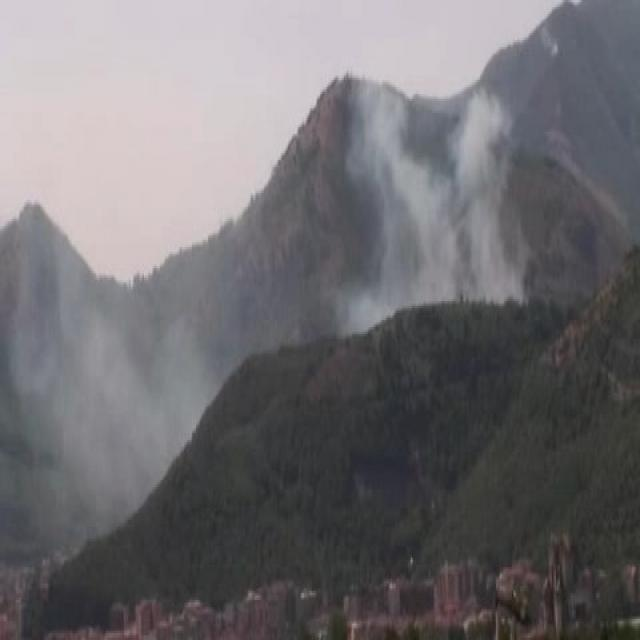smoke: (351, 81, 511, 310), (27, 262, 211, 458)
